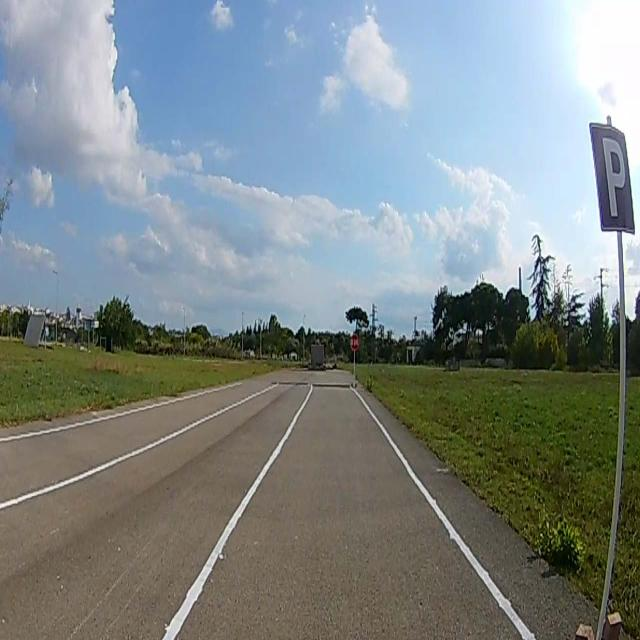park: (591, 124, 633, 230)
